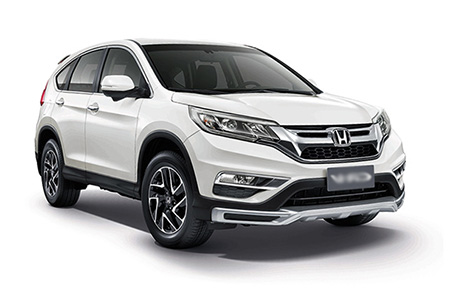pickup: (33, 36, 409, 250)
